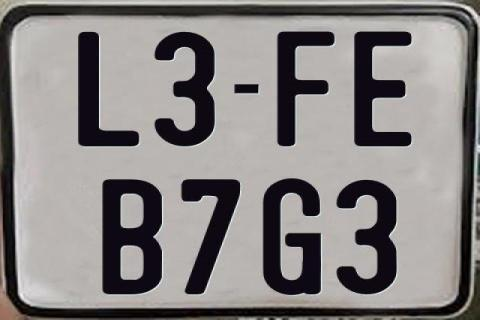0: (178, 180, 242, 300), (334, 180, 398, 298), (152, 31, 218, 145)
B: (100, 178, 160, 298)
E: (351, 31, 413, 151)
F: (275, 29, 335, 147)
G: (263, 179, 321, 295)
L: (77, 31, 142, 147)
